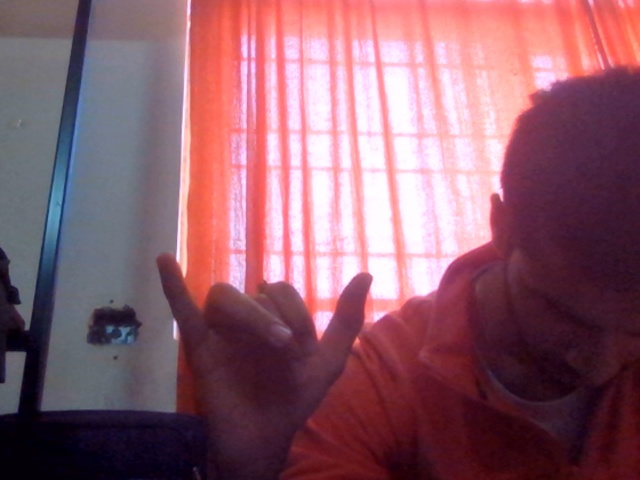Y: (129, 212, 453, 480)
